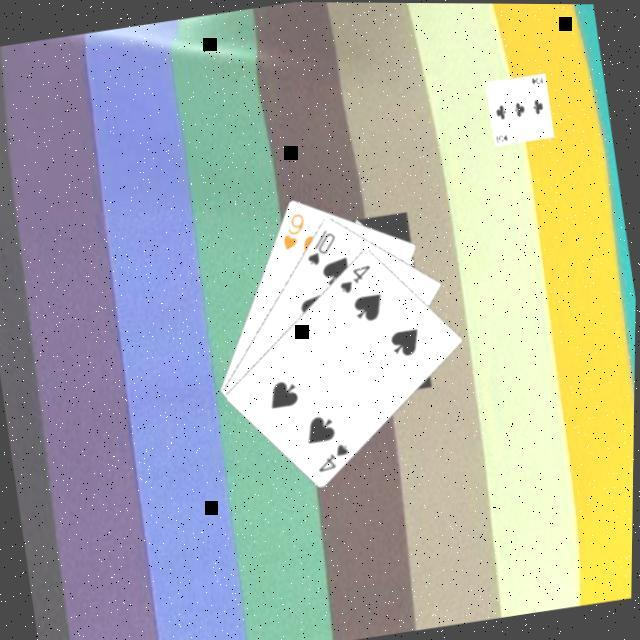10S: (301, 223, 344, 268)
4S: (336, 258, 379, 296), (313, 436, 356, 474)
9H: (276, 206, 314, 252)
